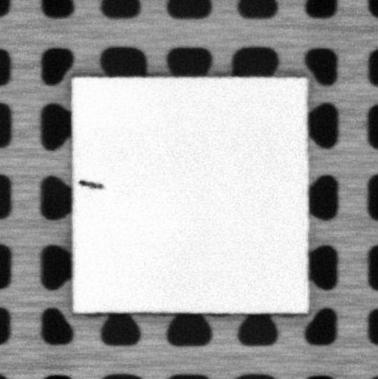DIE_INK: (78, 177, 104, 190)
